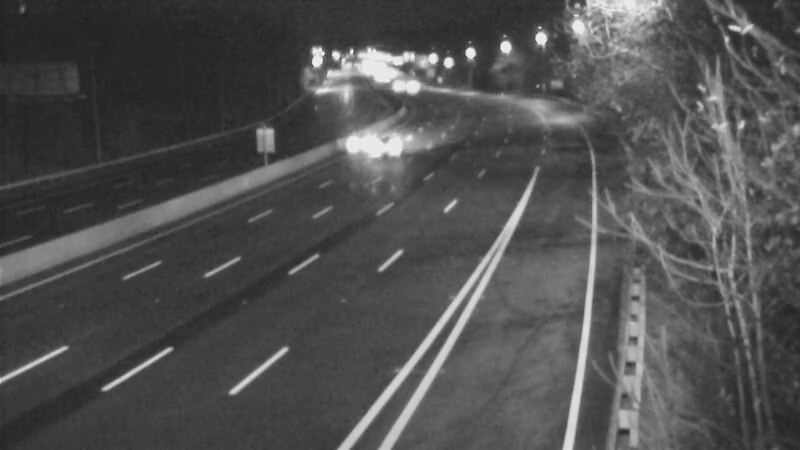vehicle: (387, 62, 437, 112), (357, 119, 407, 169), (327, 115, 377, 165)
